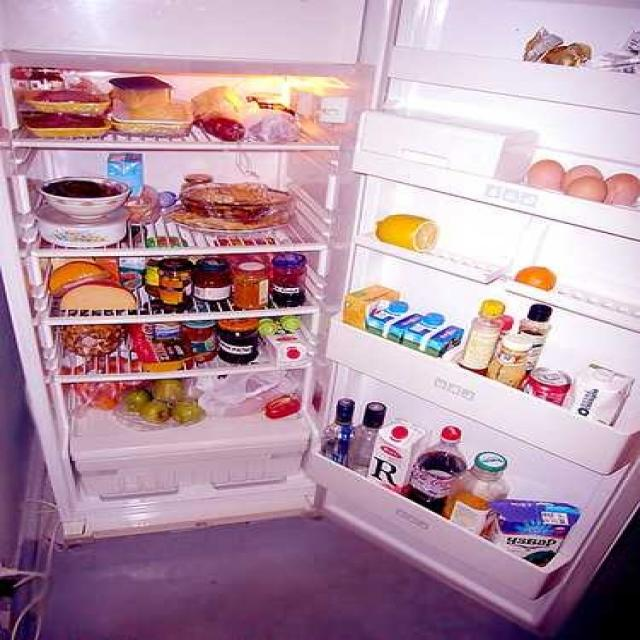refrigerator: (0, 0, 602, 584)
